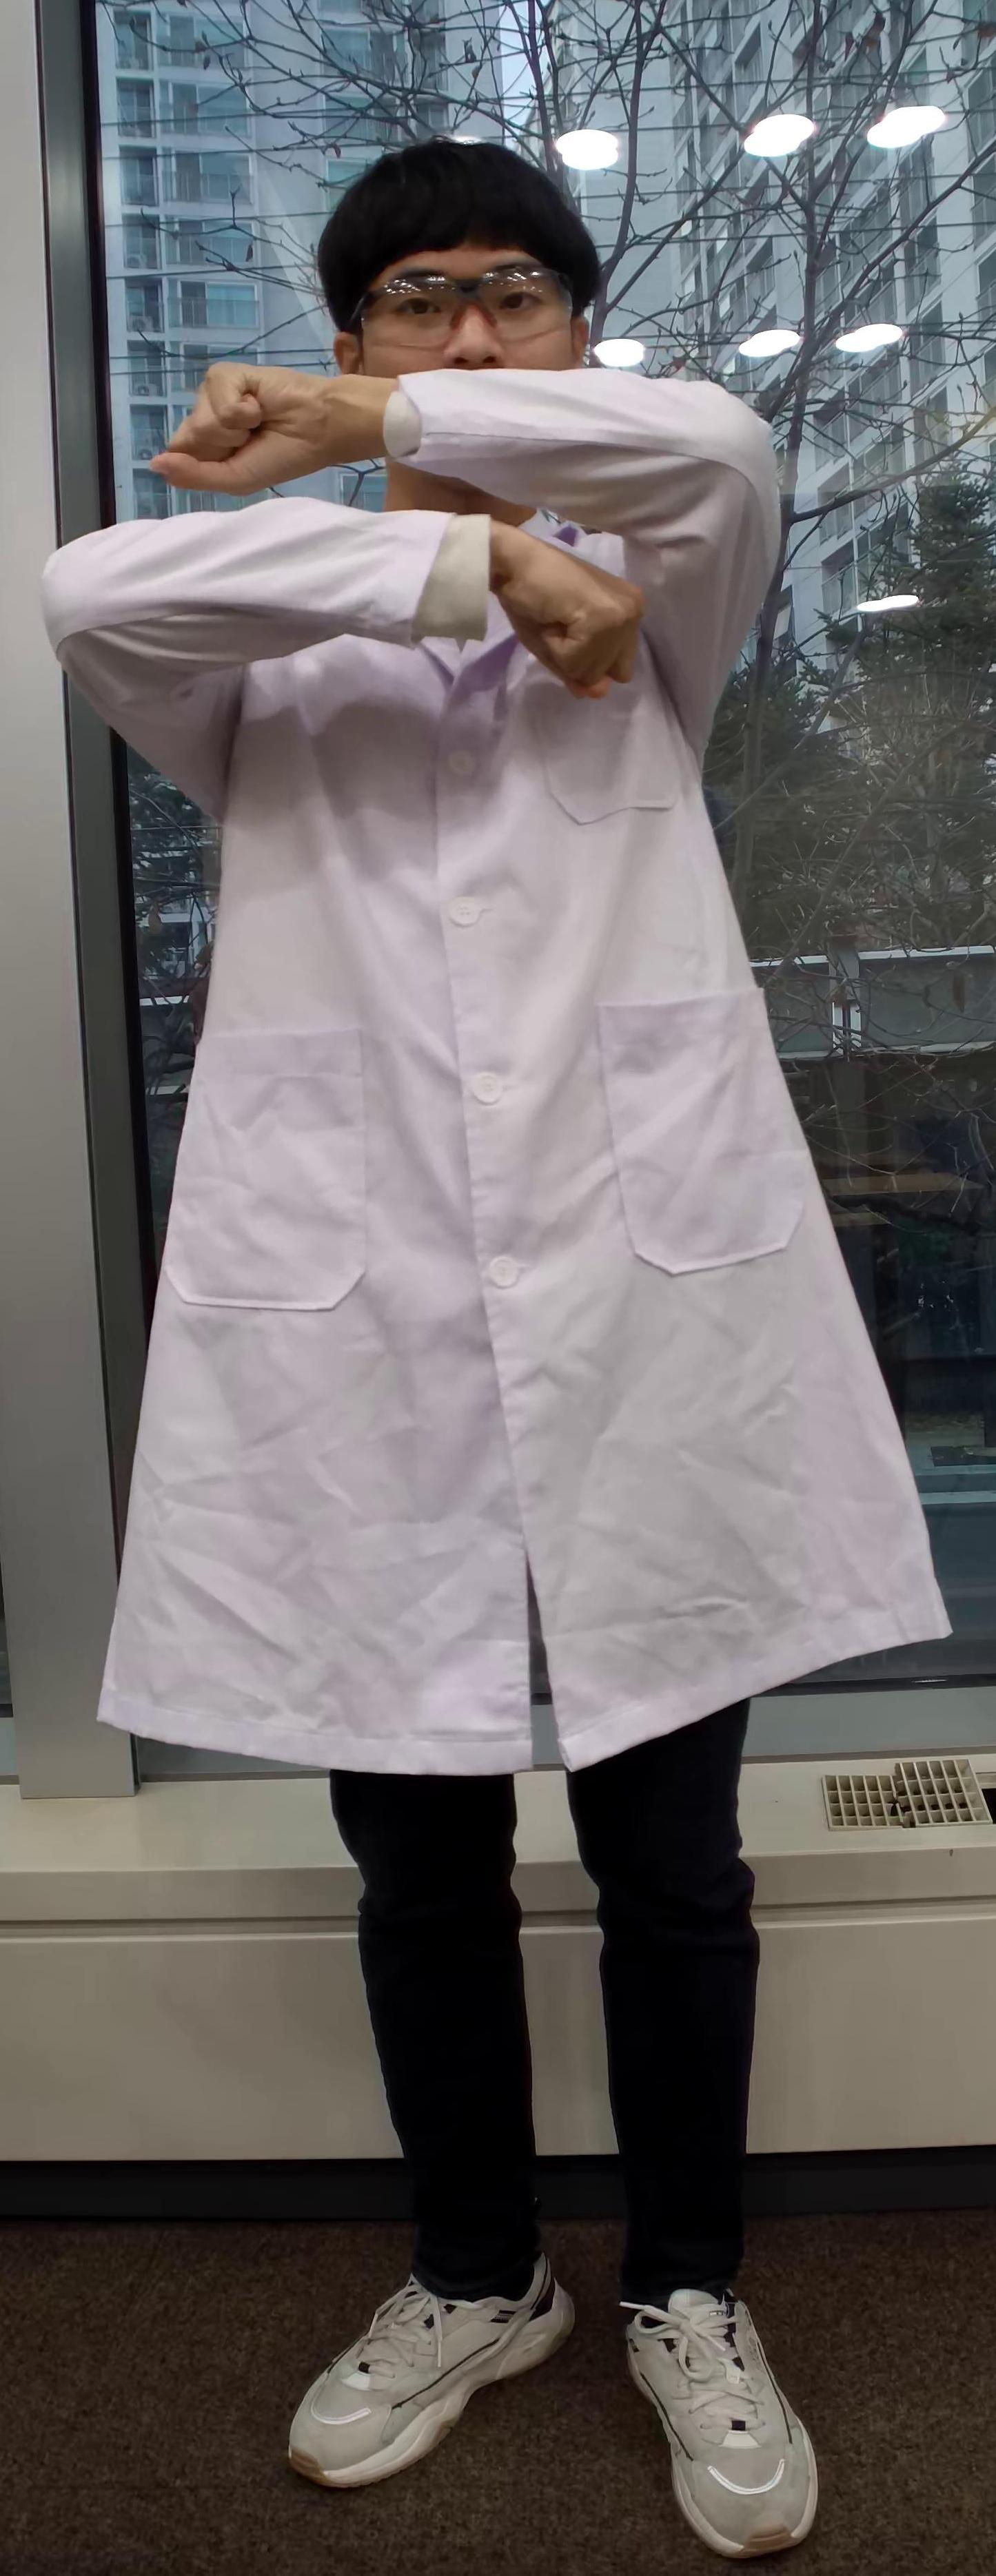lab_coat: (146, 642, 897, 1758)
